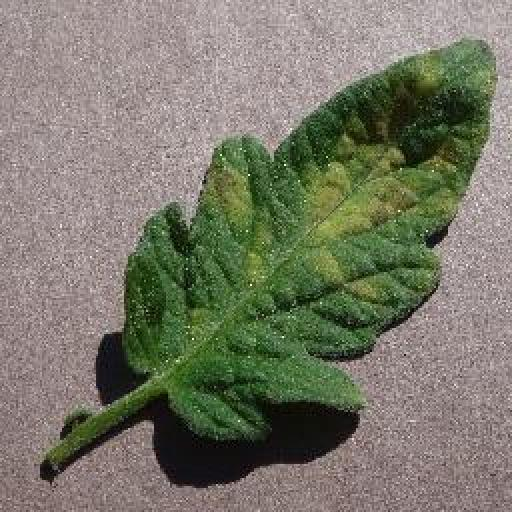disease_tomato: (122, 37, 499, 443)
